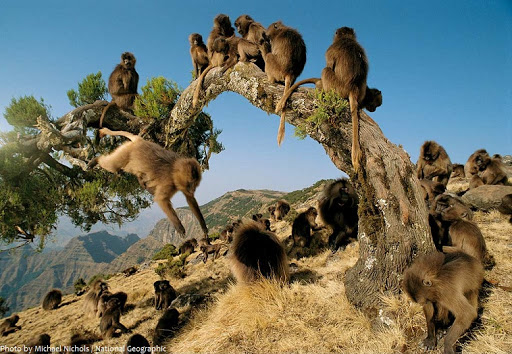Gelada: (99, 131, 208, 221), (406, 259, 481, 342), (226, 218, 289, 288), (326, 24, 367, 118), (439, 208, 494, 265), (265, 22, 307, 89), (461, 150, 509, 192), (107, 49, 139, 111), (323, 185, 358, 241), (417, 139, 453, 187), (233, 15, 264, 65), (211, 16, 235, 72), (293, 206, 320, 253), (187, 32, 210, 73), (87, 280, 112, 313), (104, 300, 122, 341), (153, 280, 174, 309), (197, 240, 225, 260), (43, 288, 62, 311), (2, 315, 21, 333)
